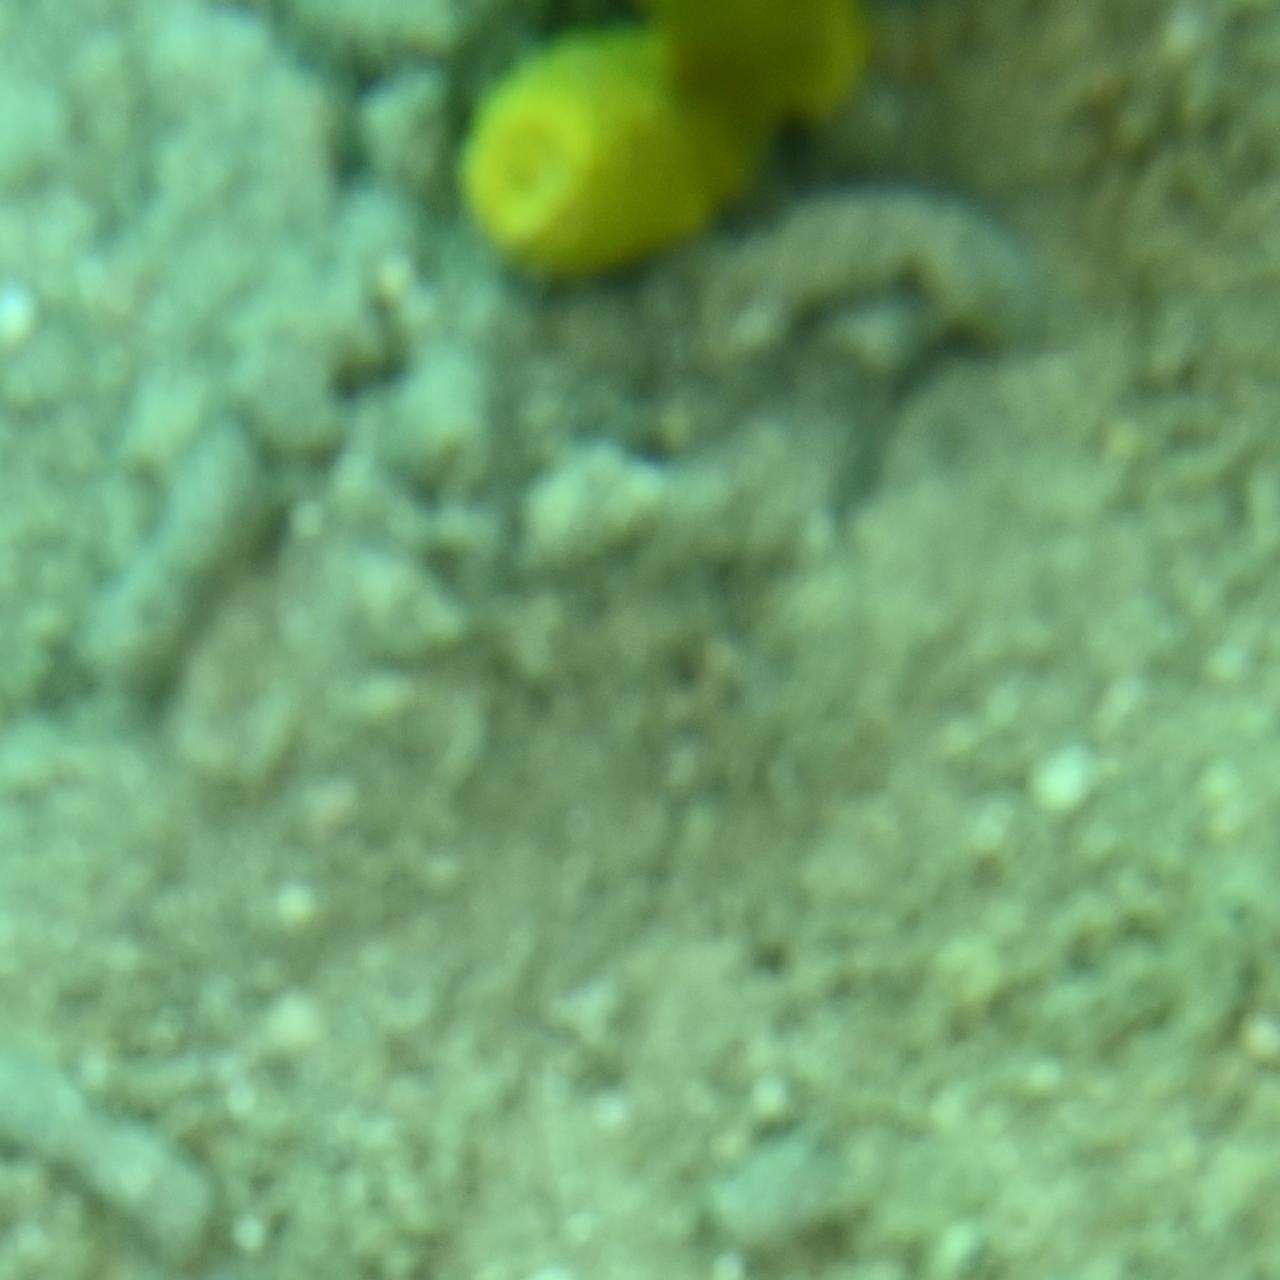Aplysina aerophoba: (440, 2, 840, 350)
